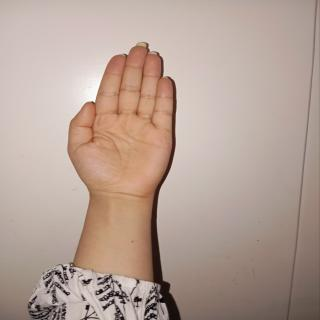ZAY: (59, 38, 189, 217)
